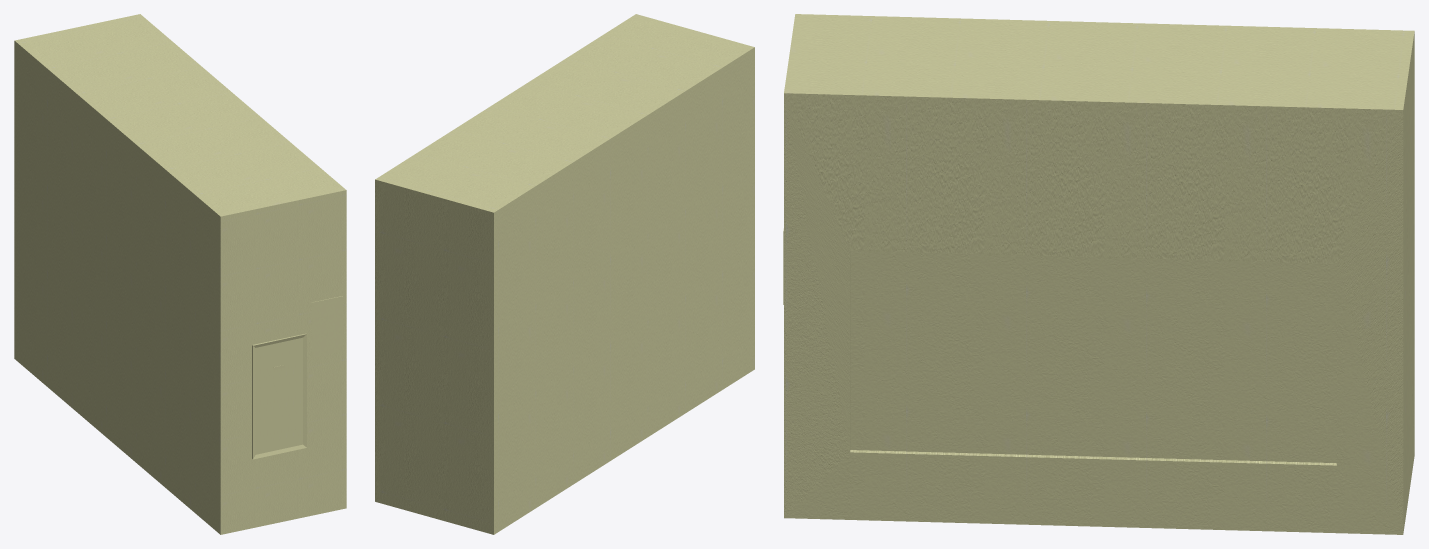
The model's file is back_wall.fbx.
3 renders of one model, left to right at view 1: azimuth 30°, elevation 25°; view 2: azimuth 150°, elevation 25°; view 3: azimuth 270°, elevation 25°, orthographic. The views are drawn at different scales.
Parts seen in each view (by area): view 1: back_wall; view 2: back_wall; view 3: back_wall.
Part boxes in pixels (left/top/right/bottom): back_wall: left=14, top=14, right=346, bottom=534; back_wall: left=375, top=14, right=754, bottom=534; back_wall: left=783, top=14, right=1414, bottom=534.
Bounding box in the file's own units: 3.34 × 6.89 × 9.27.
1 material, 1 textured.
